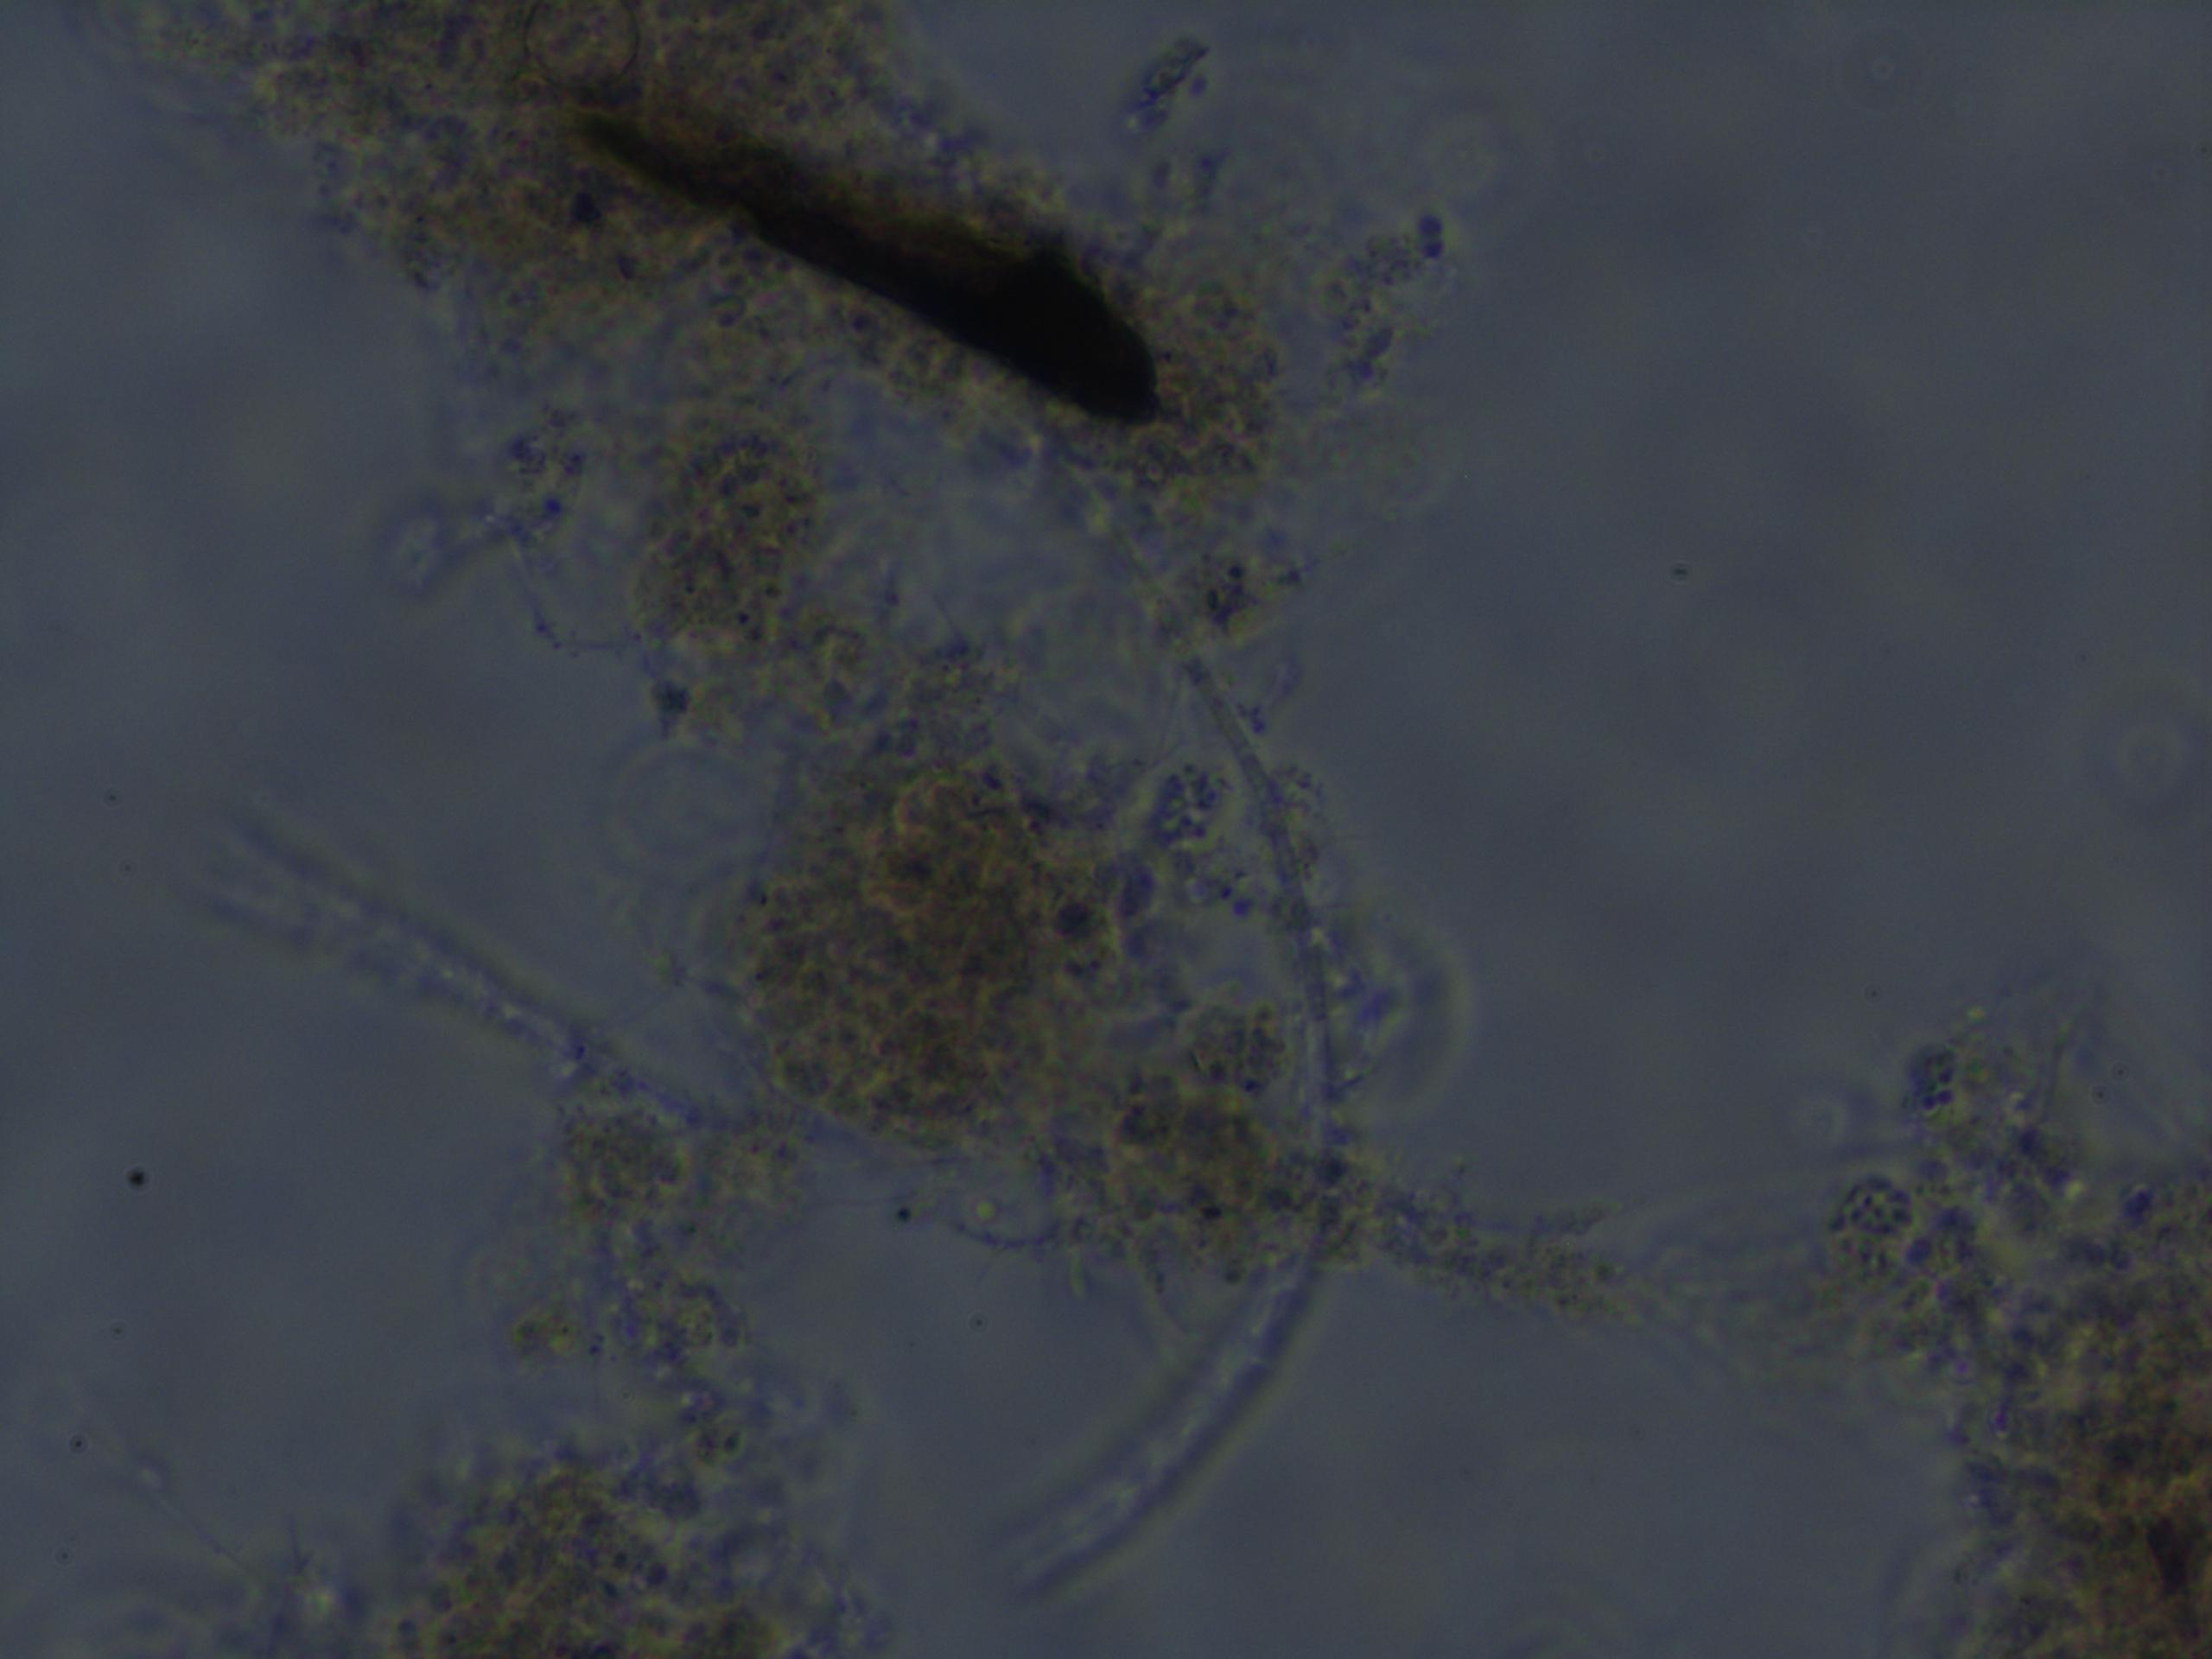filament: (991, 476, 1359, 1659), (150, 812, 718, 1154)
